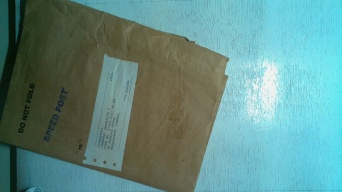l: (8, 1, 214, 190)
